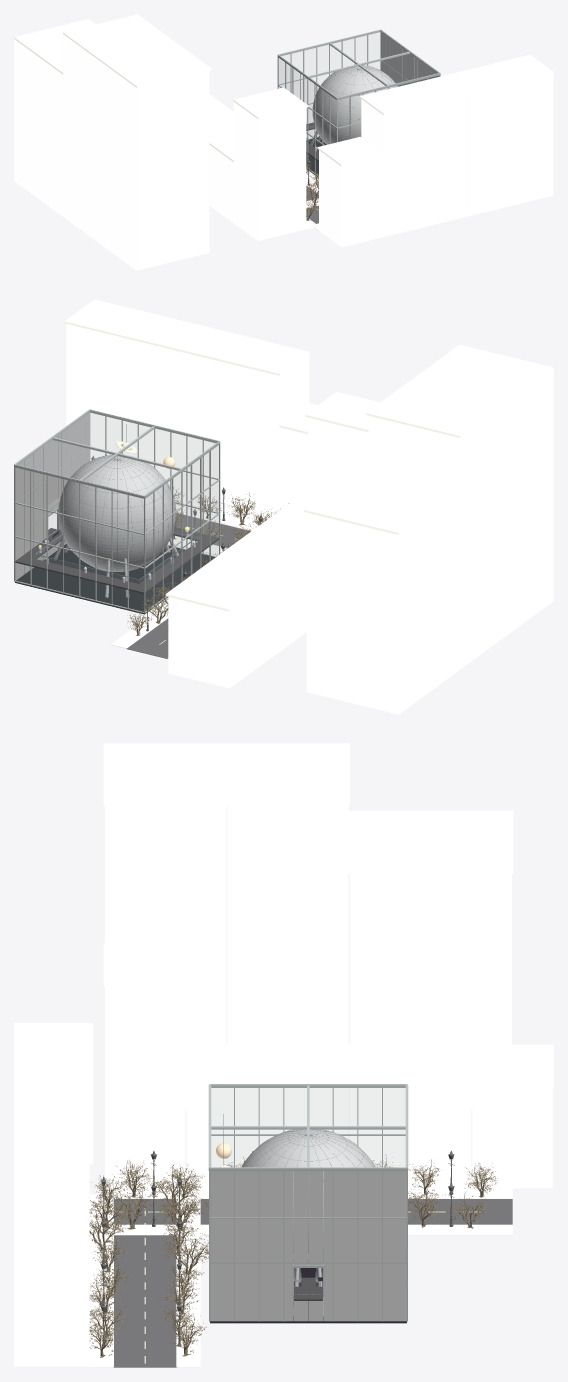
Rendered from L_F02_RoseCenterScales_FPS.glb.
3 views of the same model, one above another, from view 1: azimuth 30°, elevation 25°; view 2: azimuth 150°, elevation 25°; view 3: azimuth 270°, elevation 25° (orthographic). The views are drawn at different scales.
Parts seen in each view (by area): view 1: ARCH_L_F02_RoseCenterScales_FPS; view 2: ARCH_L_F02_RoseCenterScales_FPS; view 3: ARCH_L_F02_RoseCenterScales_FPS.
Part boxes in pixels (box(x1,y1,x2,y2)): ARCH_L_F02_RoseCenterScales_FPS: box(14, 14, 553, 270); ARCH_L_F02_RoseCenterScales_FPS: box(14, 299, 553, 714); ARCH_L_F02_RoseCenterScales_FPS: box(14, 743, 553, 1367).
Bounding box in the file's own units: 129 × 58.29 × 92.6.
